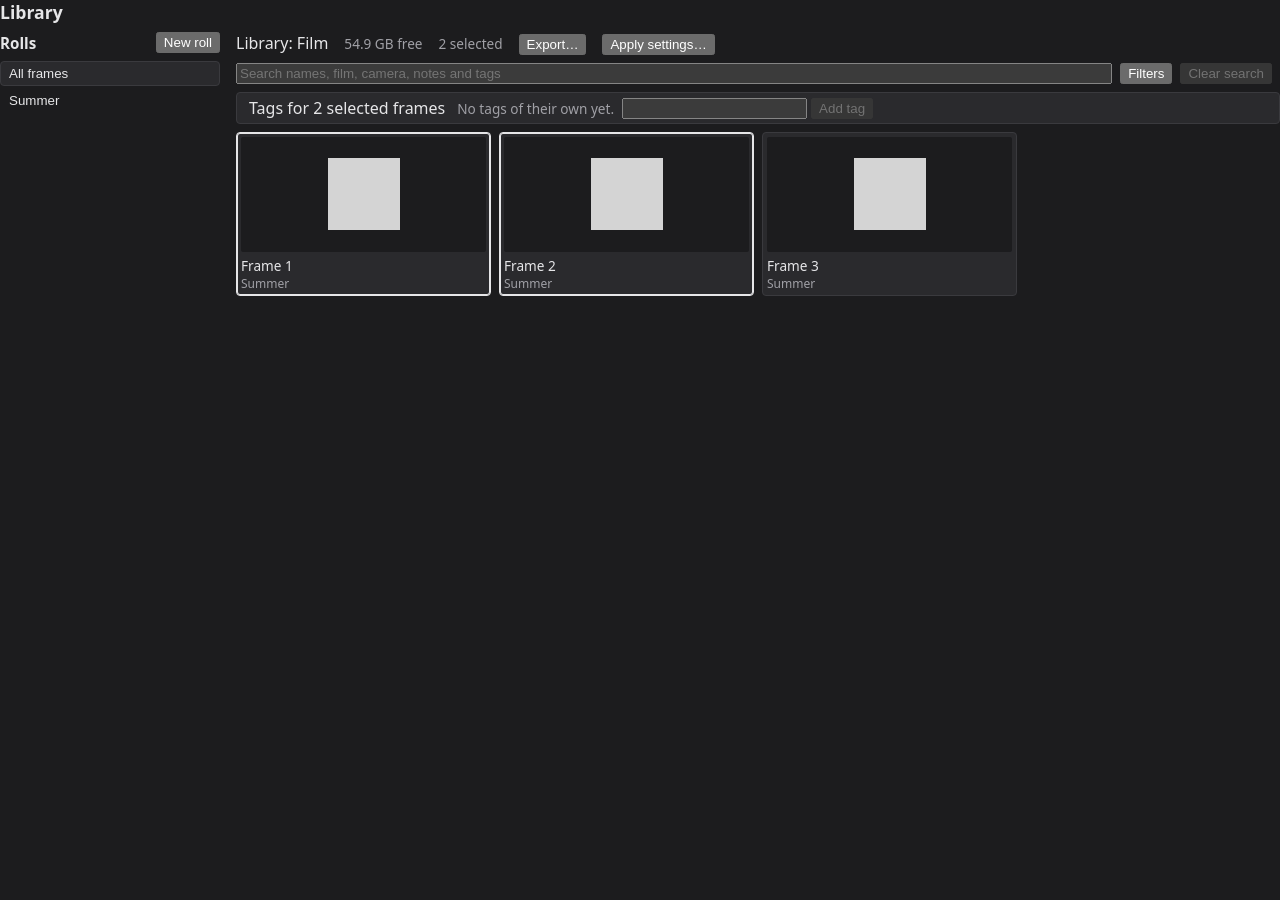
Test: ApplySettingsDialog › applying › copies to the whole roll, in the order of the groups, whatever order they were ticked
The image size is (1280, 900).
Click the button "Apply settings…".
click(659, 44)  # box [602,34,715,55]
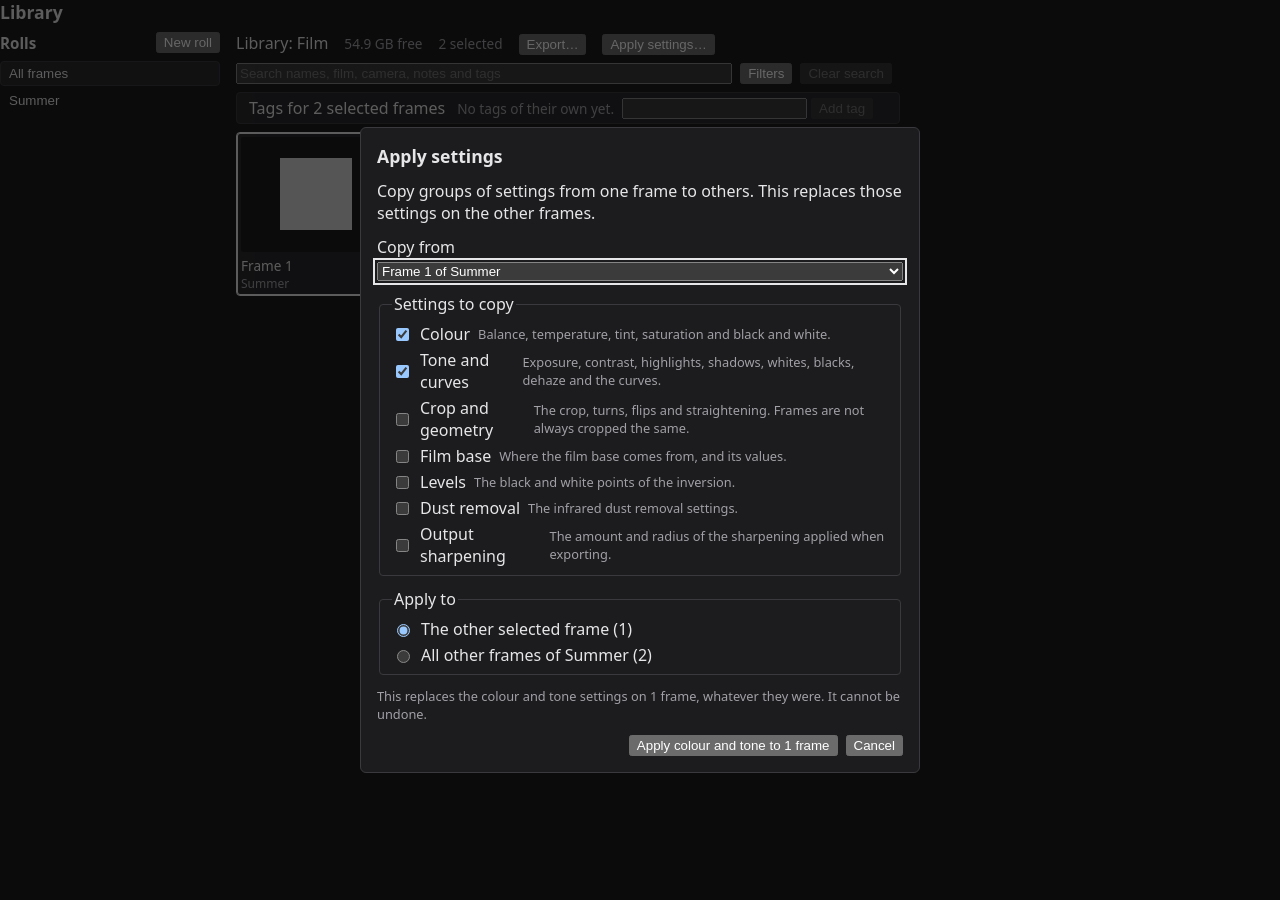
Result: the dialog "Apply settings" is shown at [360,127,920,773]
Result: the radio button labelled "All other frames of Summer (2)" is shown at [397,650,410,663]
Click the checkbox labelled "Film base Where the film base comes from, and its values.".
click(402, 456)  # box [396,450,409,462]
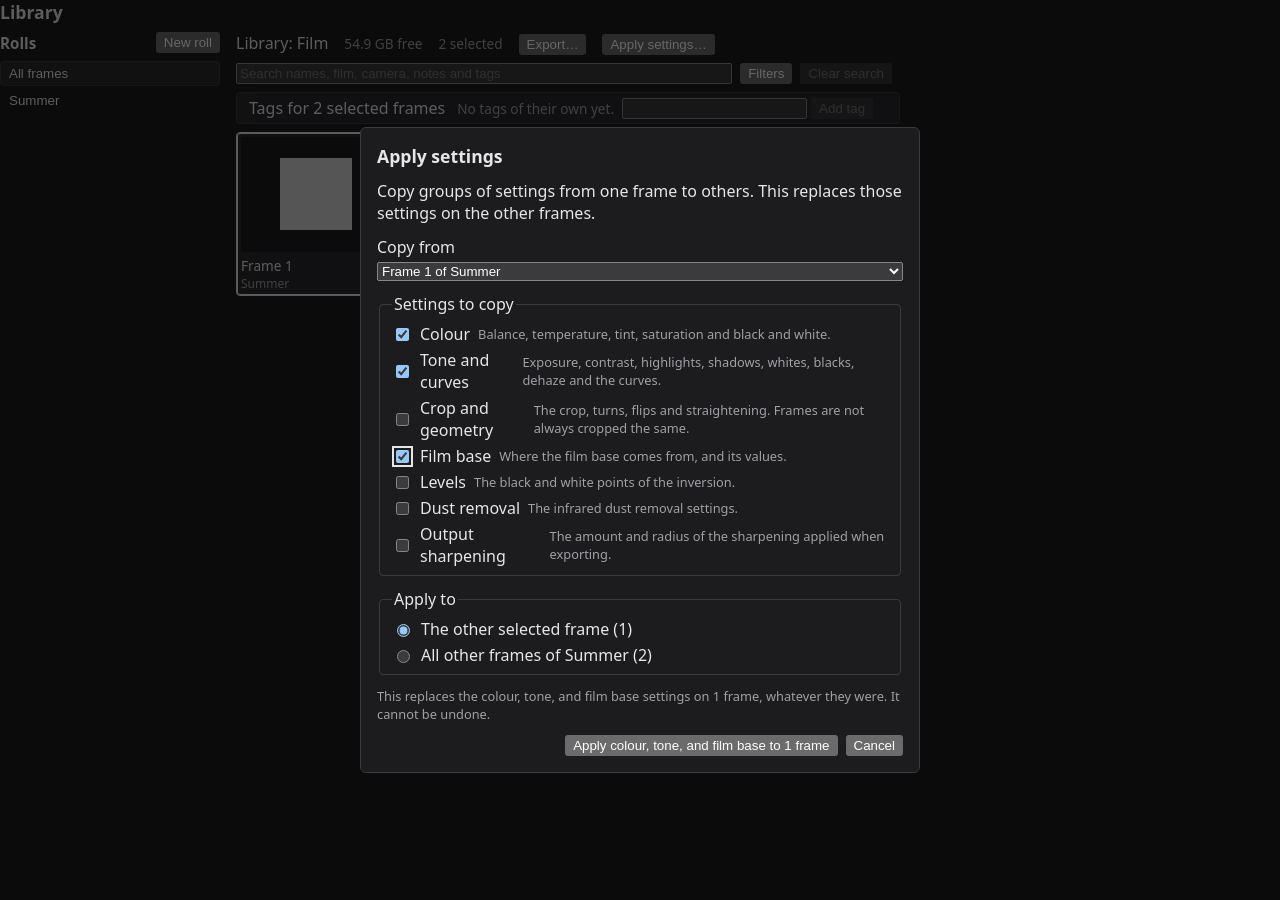
Click the checkbox labelled "Crop and geometry".
click(402, 419)  # box [396,412,409,426]
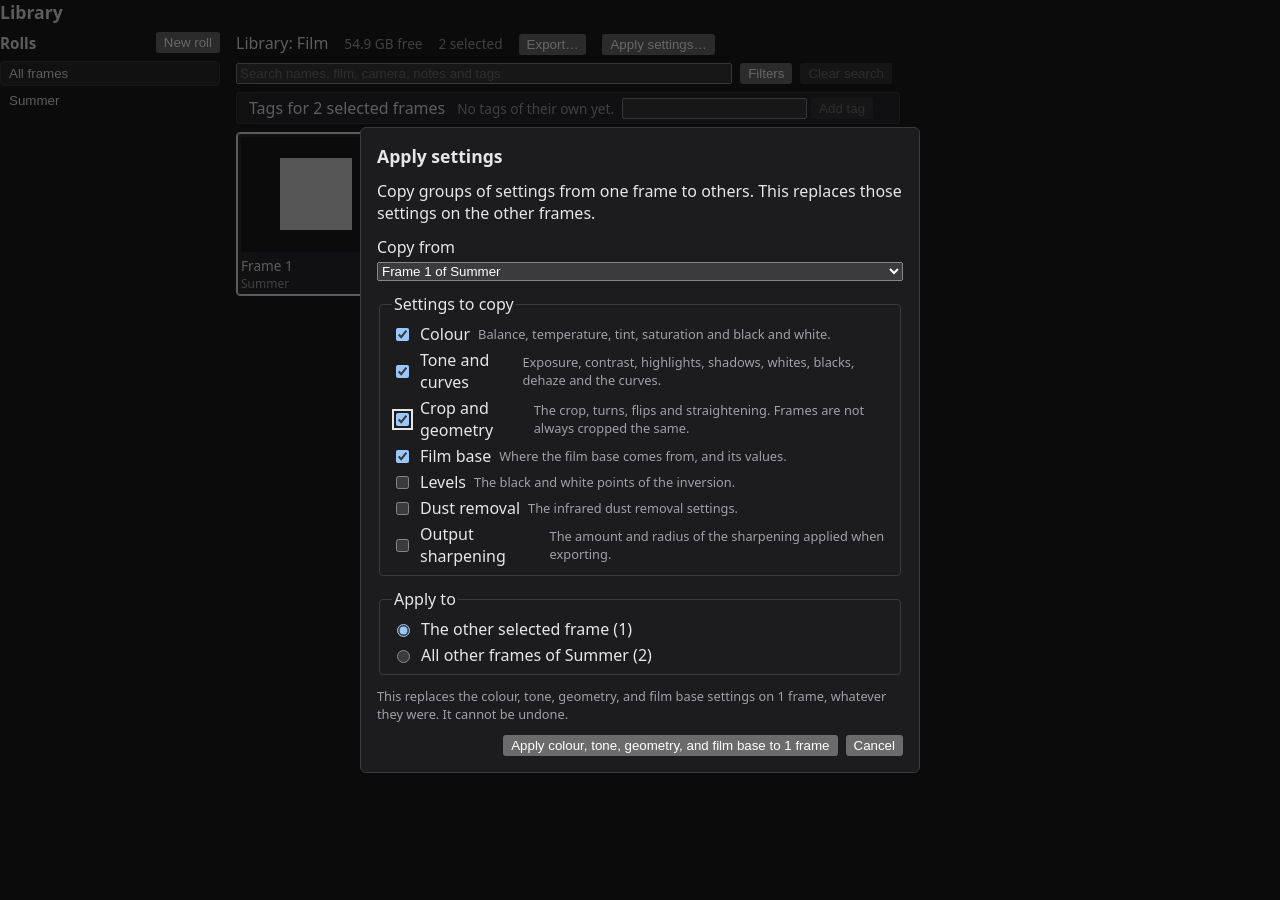
Click the radio button labelled "All other frames of Summer (2)".
click(404, 656)  # box [397,650,410,663]
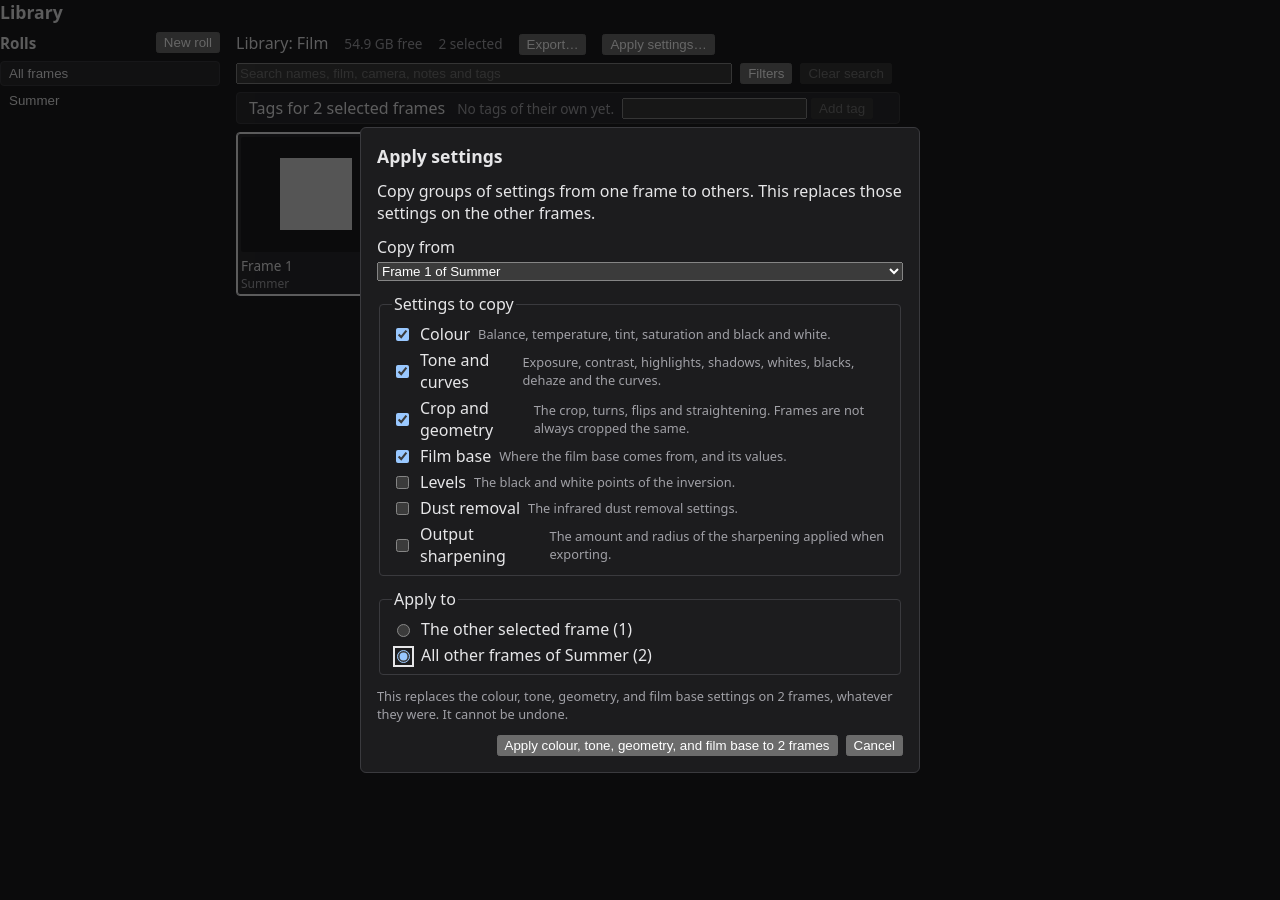
Click the button "Apply colour, tone, geometry, and film base to 2 frames".
click(667, 746)  # box [496,735,838,756]
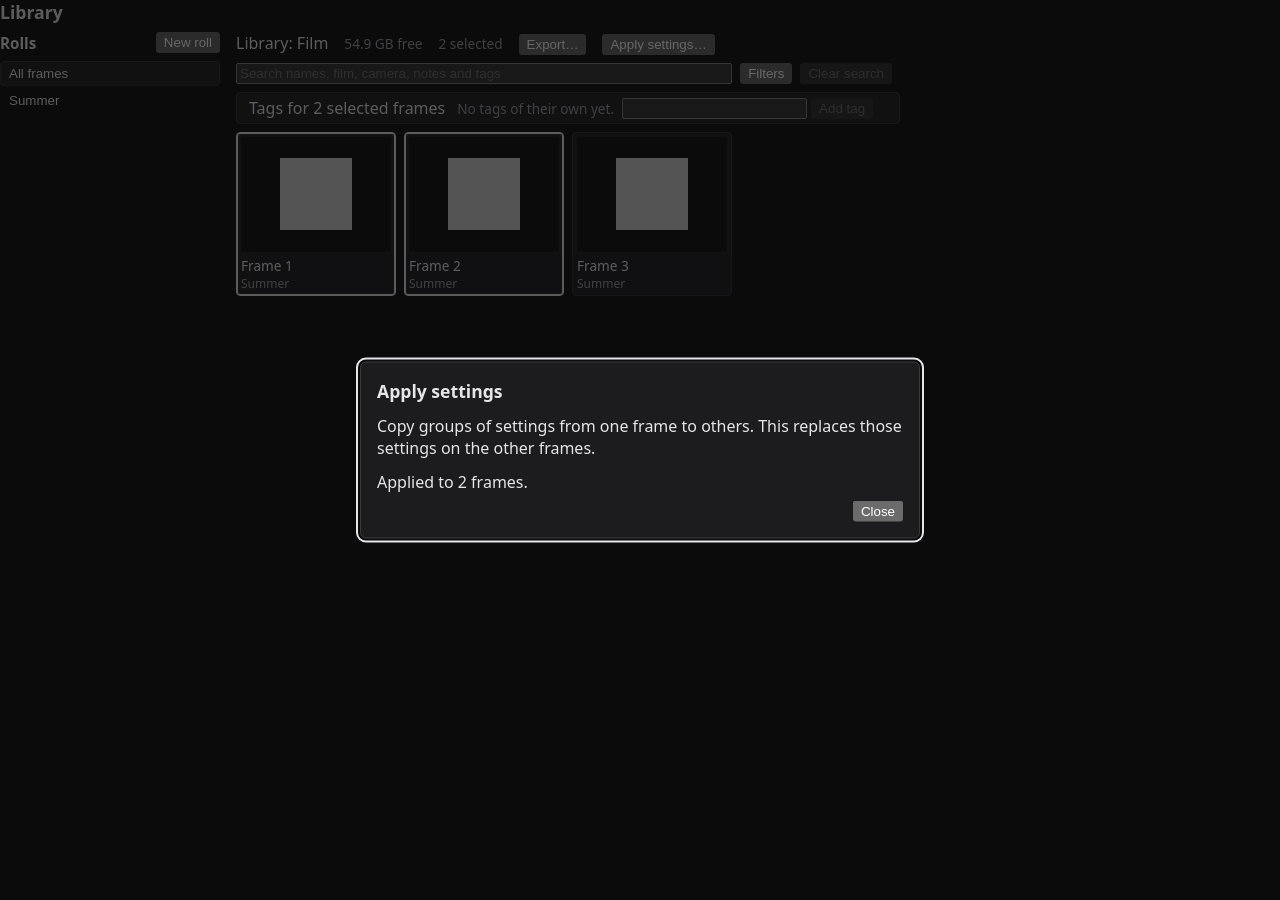
Result: the text "Applied to 2 frames." is shown at [377,470,528,492]
